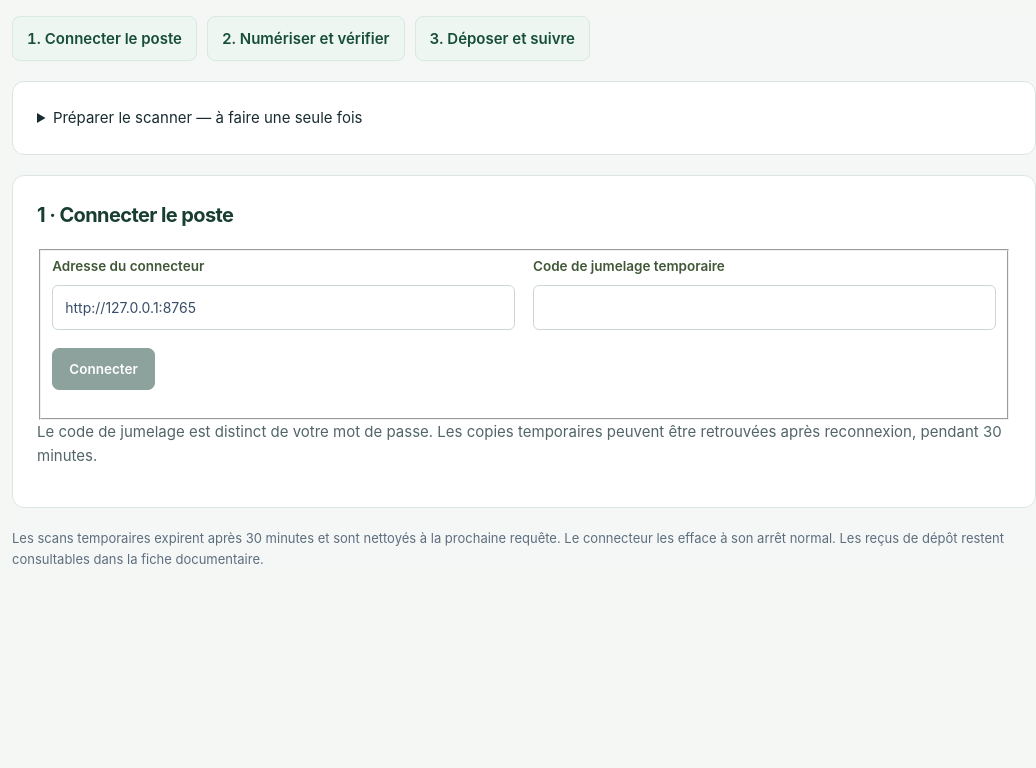
Test: refuse un ancien connecteur et garde une erreur visible
The image size is (1036, 768).
In the password field labelled "Code de jumelage temporaire": (764, 308) [533,285,996,330], type "test"
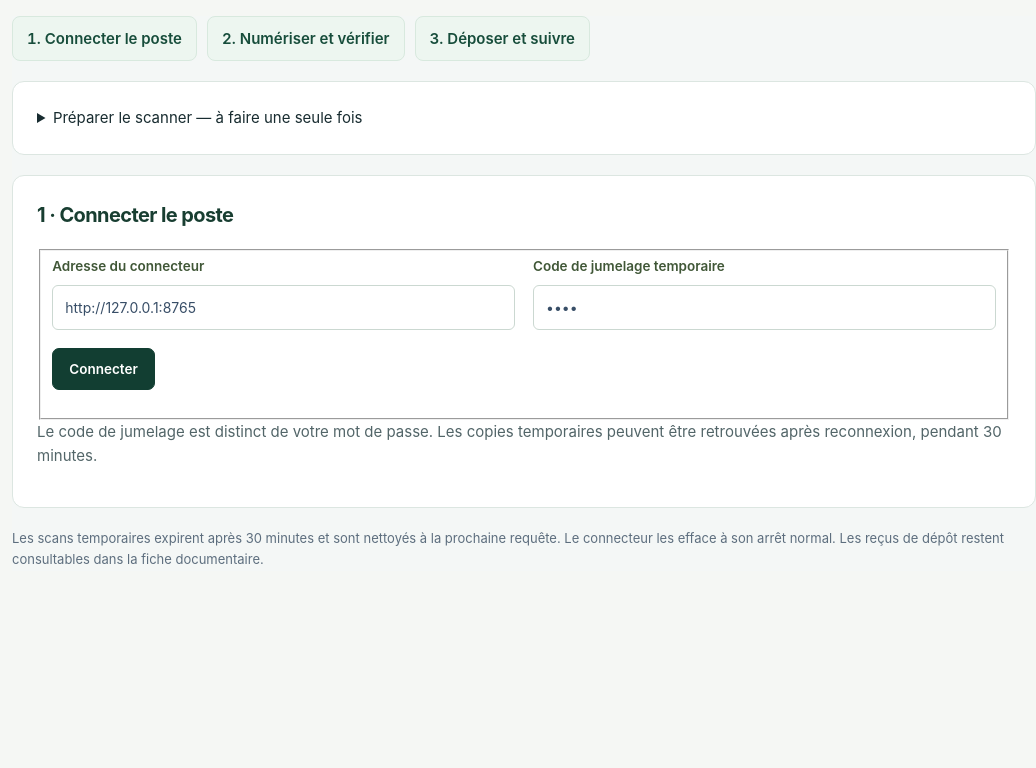
Click the button "Connecter": (104, 369) [52,348,155,390]
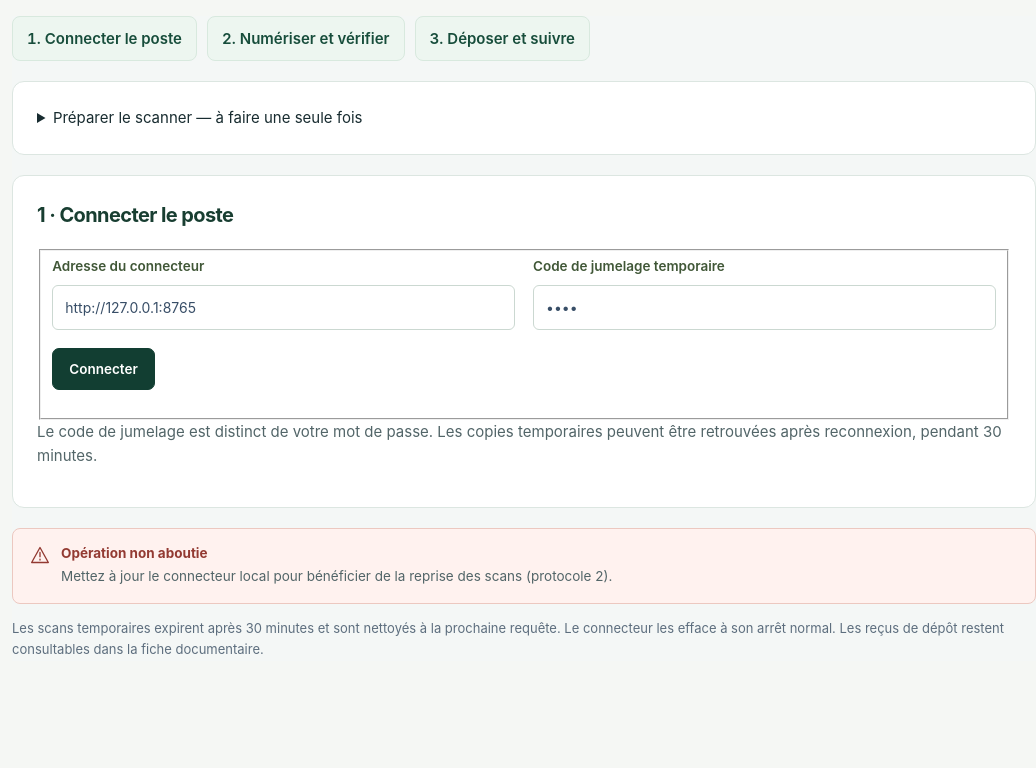
Expected: the message shows "protocole 2", [61,568,612,584]
